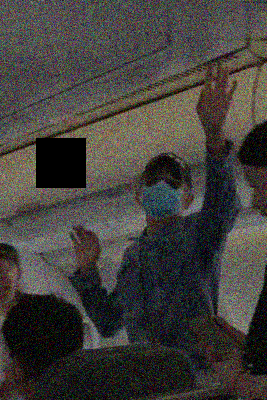with_mask: (140, 168, 186, 221)
without_mask: (243, 169, 266, 228)
